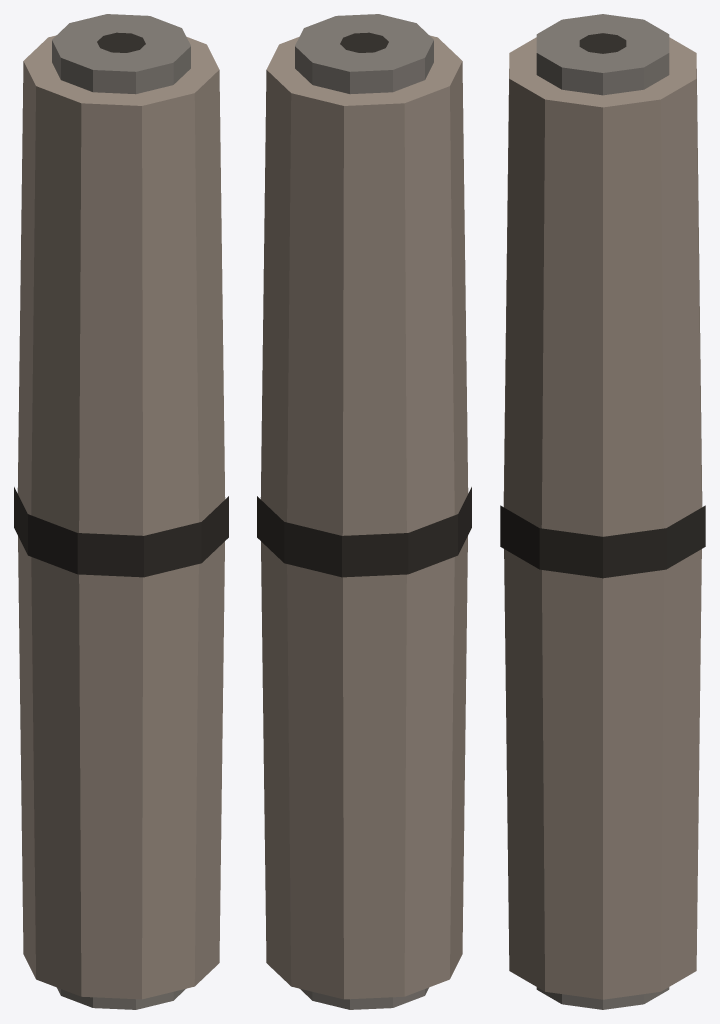
Rendered from plan-tube-b1d1ac.glb.
The picture shows the model from 3 angles, left to right: view 1: azimuth 30°, elevation 25°; view 2: azimuth 150°, elevation 25°; view 3: azimuth 270°, elevation 25°; orthographic projection.
Bounding box in the file's own units: 0.1227 × 0.588 × 0.1167.
